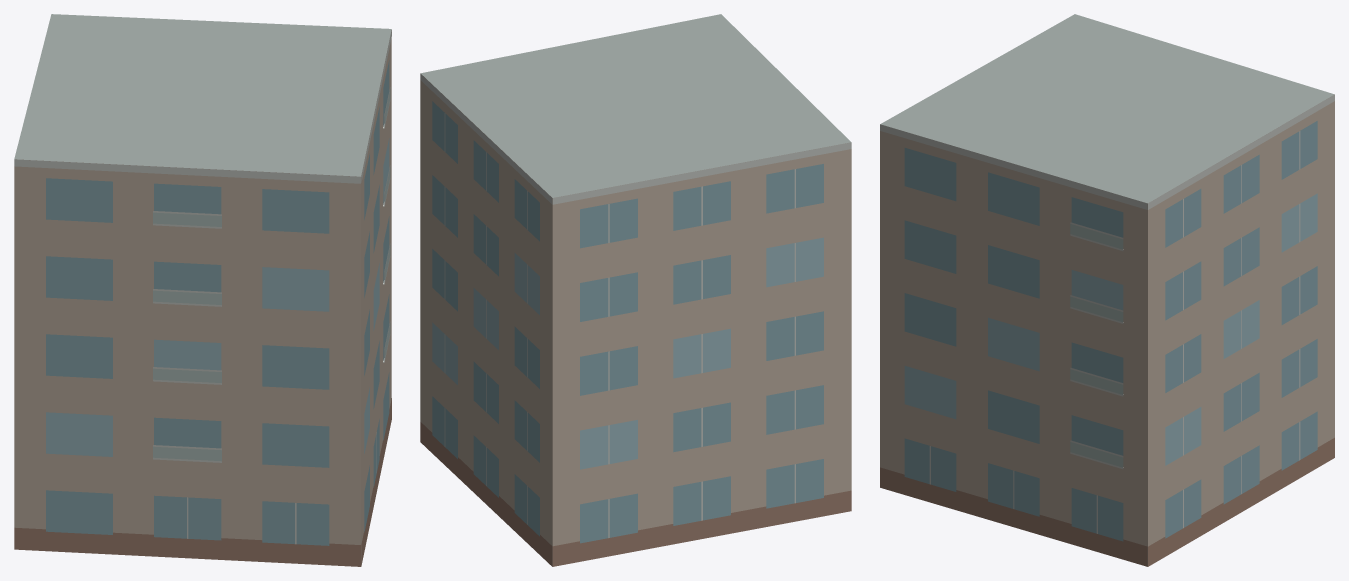
The model's file is survey-upis-32731877.glb.
The picture shows the model from 3 angles, left to right: view 1: azimuth 30°, elevation 25°; view 2: azimuth 150°, elevation 25°; view 3: azimuth 270°, elevation 25°; orthographic projection. The views are drawn at different scales.
Parts seen in each view (by area): view 1: survey-upis-32731877.tmp; view 2: survey-upis-32731877.tmp; view 3: survey-upis-32731877.tmp.
Boxes of the visible parts, x1,y1,x2,y2 form: survey-upis-32731877.tmp: [14, 14, 391, 566]; survey-upis-32731877.tmp: [420, 14, 851, 566]; survey-upis-32731877.tmp: [880, 14, 1334, 566].
Bounding box in the file's own units: 14.89 × 13.31 × 15.1.
